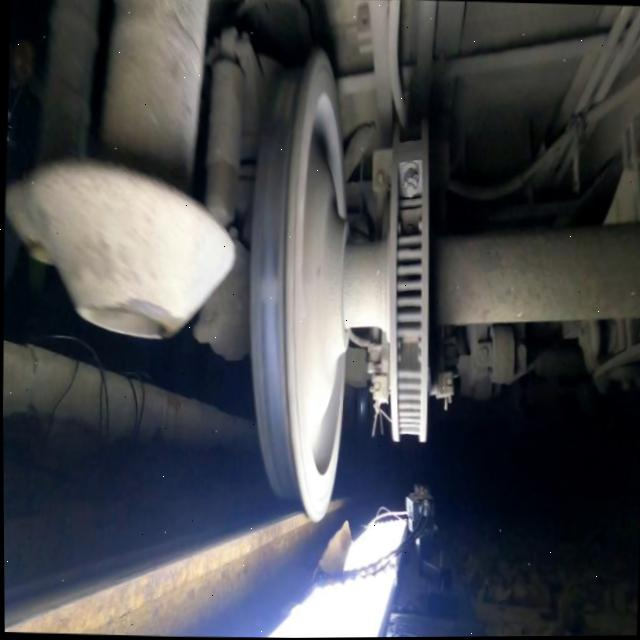Discoloration: (255, 303, 280, 359), (258, 232, 280, 276)
Shelling: (273, 79, 297, 120), (254, 276, 279, 302)
Wheel: (249, 50, 348, 523)
